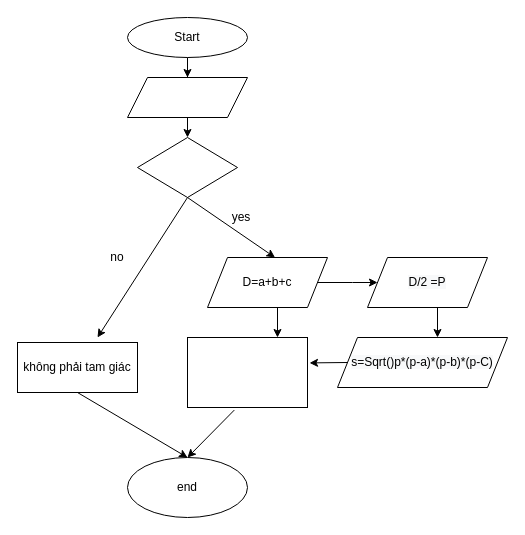
The diagram is 525 pixels wide and 535 high, and some of its shapes have lost their labels. The centre of each missing label's shape, as x and y in pixels:
"a+b>c" goes at (187,167).
"D là chu vi tam giác S là diện tích tam giac" goes at (247,372).
"input a,b,c" goes at (187,97).
